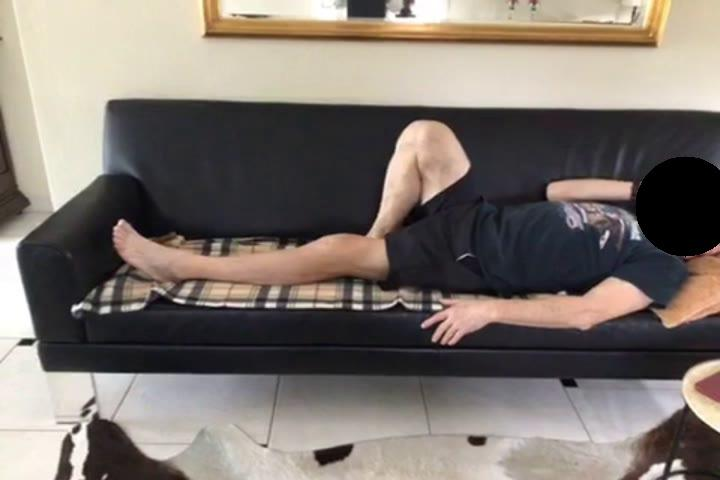lower_body: (112, 119, 495, 294)
